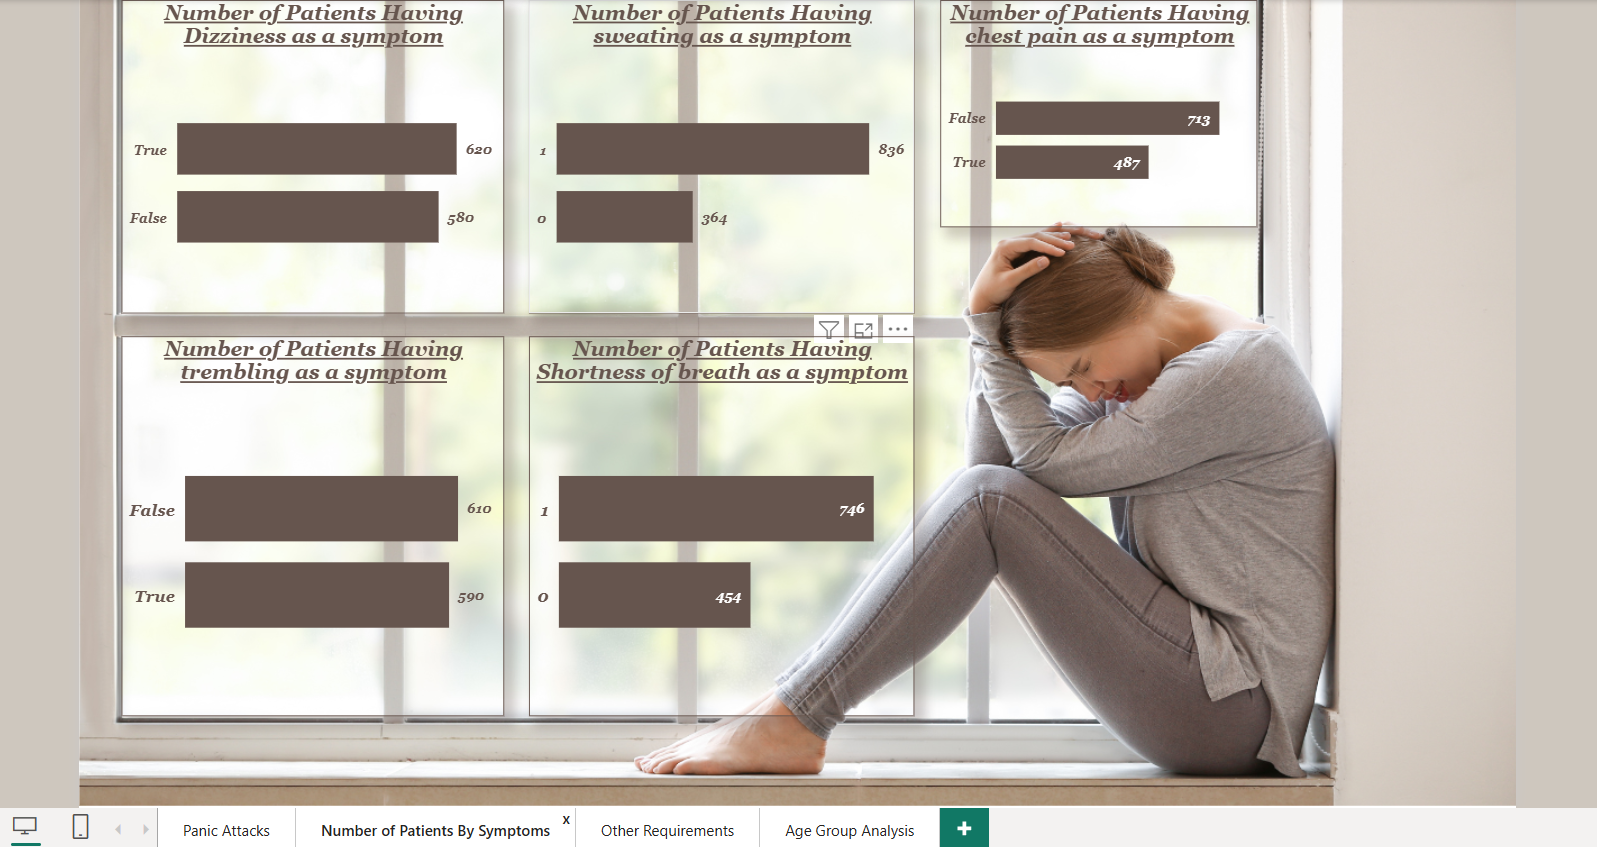

The dashboard page shown, as its layout file describes it:
{"tool":"powerbi","page":{"name":"Number of Patients By Symptoms","canvas":[1280,720],"ordinal":1},"visuals":[{"type":"barChart","title":"Number of Patients Having Dizziness as a symptom","fields":{"Y":["CountNonNull(PANIC_ATTACK_DATA.ID)"],"Category":["PANIC_ATTACK_DATA.DIZZINESS"]},"box":[37.8,0,340.6,279.4],"z":0},{"type":"barChart","title":"Number of Patients Having trembling as a symptom","fields":{"Y":["CountNonNull(PANIC_ATTACK_DATA.ID)"],"Category":["PANIC_ATTACK_DATA.TREMBLING"]},"box":[37.8,299.4,340.6,338.4],"z":1000},{"type":"barChart","title":"Number of Patients Having sweating as a symptom","fields":{"Y":["CountNonNull(PANIC_ATTACK_DATA.ID)"],"Category":["PANIC_ATTACK_DATA.SWEATING"]},"box":[400.7,0,342.9,279.4],"z":2000},{"type":"barChart","title":"Number of Patients Having Shortness of breath as a symptom","fields":{"Y":["CountNonNull(PANIC_ATTACK_DATA.ID)"],"Category":["PANIC_ATTACK_DATA.SHORTNESS_OF_BREATH"]},"box":[400.7,299.4,342.9,338.4],"z":3000},{"type":"barChart","title":"Number of Patients Having chest pain as a symptom","fields":{"Y":["CountNonNull(PANIC_ATTACK_DATA.ID)"],"Category":["PANIC_ATTACK_DATA.CHEAT_PAIN"]},"box":[767,0,282.7,202.6],"z":4000}]}

Visuals, with their boxes on the page's 1280x720 design canvas (x1, y1, x2, y2). These are canvas units, not pixel positions in the 1597x847 screenshot, which may show the page scaled, cropped or inside an application window:
"Number of Patients Having Dizziness as a symptom" barChart: (left=38, top=0, right=378, bottom=279)
"Number of Patients Having trembling as a symptom" barChart: (left=38, top=299, right=378, bottom=638)
"Number of Patients Having sweating as a symptom" barChart: (left=401, top=0, right=744, bottom=279)
"Number of Patients Having Shortness of breath as a symptom" barChart: (left=401, top=299, right=744, bottom=638)
"Number of Patients Having chest pain as a symptom" barChart: (left=767, top=0, right=1050, bottom=203)
